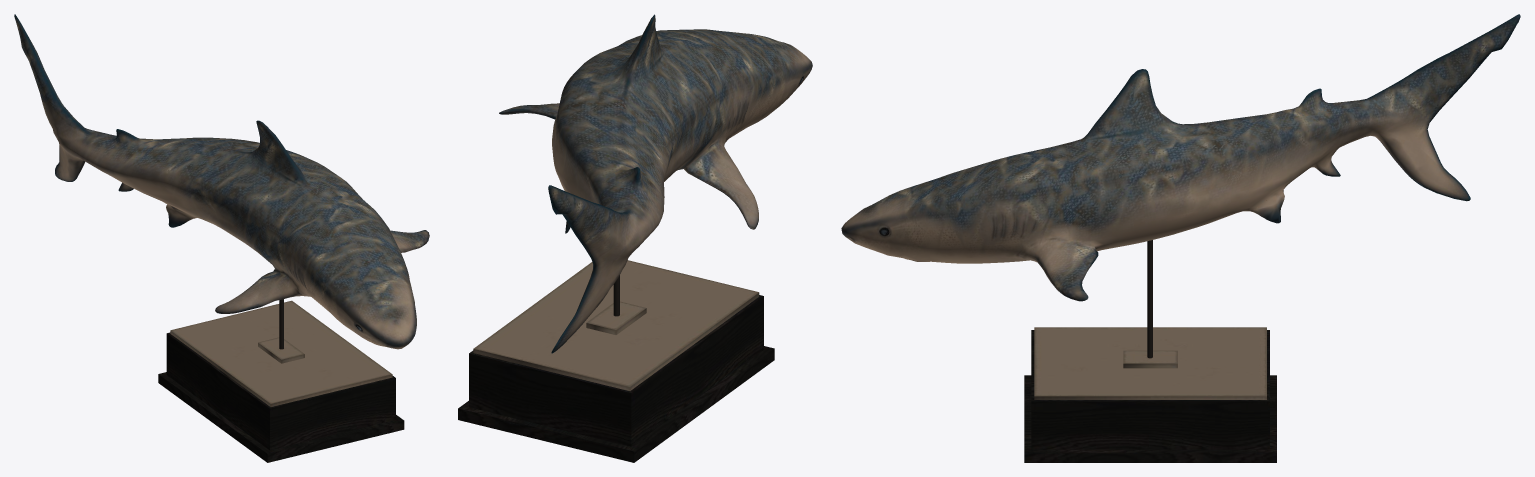
The model's file is bronze_shark.glb.
3 views of the same model, side by side, from view 1: azimuth 30°, elevation 25°; view 2: azimuth 150°, elevation 25°; view 3: azimuth 270°, elevation 25° (orthographic). The views are drawn at different scales.
Visible parts, largest first — view 1: bronze_shark_statue; view 2: bronze_shark_statue; view 3: bronze_shark_statue.
Boxes of the visible parts, x1,y1,x2,y2 form: bronze_shark_statue: (14, 14, 429, 462); bronze_shark_statue: (458, 14, 812, 462); bronze_shark_statue: (841, 14, 1520, 462).
Size of the model in its own units: 0.352 by 0.4316 by 0.7598.
Materials: 1 (1 with a texture image).
